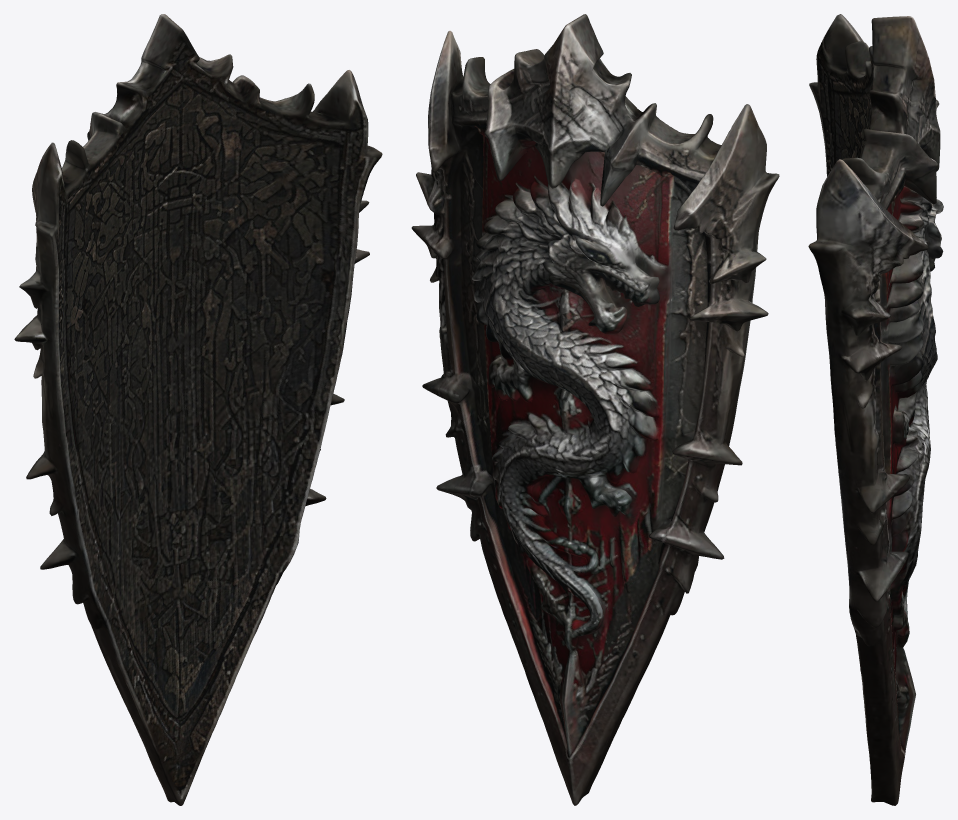
Rendered from kite_spinedrake.glb.
3 views of the same model, side by side, from view 1: azimuth 30°, elevation 25°; view 2: azimuth 150°, elevation 25°; view 3: azimuth 270°, elevation 25° (orthographic).
Parts seen in each view (by area): view 1: kite_spinedrake; view 2: kite_spinedrake; view 3: kite_spinedrake.
Part boxes in pixels (x1,y1,x2,y2): kite_spinedrake: [14, 14, 382, 805]; kite_spinedrake: [411, 14, 779, 805]; kite_spinedrake: [808, 14, 943, 805].
Bounding box in the file's own units: 0.3957 × 0.8339 × 0.1293.
Materials: 1 (1 with a texture image).
